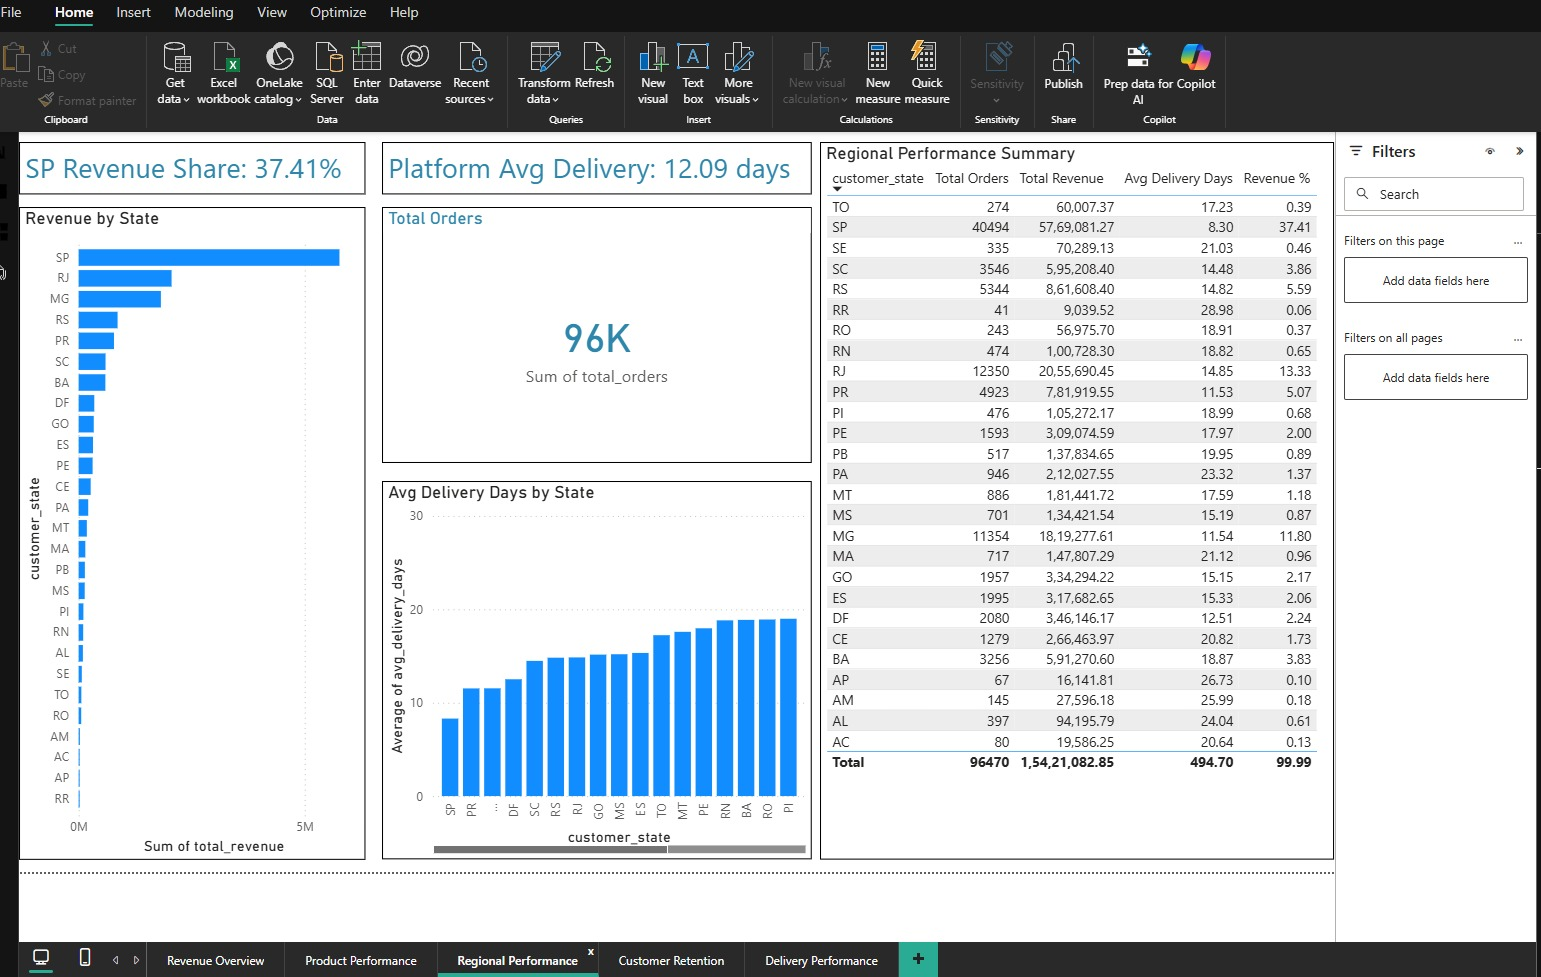

What the dashboard file says about the page in this screenshot:
{"tool":"powerbi","page":{"name":"Regional Performance","canvas":[1280,720],"ordinal":2},"visuals":[{"type":"clusteredBarChart","title":"Revenue by State","fields":{"Category":["kpi_regional_performance.customer_state"],"Y":["Sum(kpi_regional_performance.total_revenue)"]},"box":[0,72.9,336.8,635.2],"z":0},{"type":"clusteredColumnChart","title":"Avg Delivery Days by State","fields":{"Category":["kpi_regional_performance.customer_state"],"Y":["Avg(kpi_regional_performance.avg_delivery_days)"]},"box":[353.3,339.6,418,368.5],"z":1},{"type":"tableEx","title":"Regional Performance Summary","fields":{"Values":["kpi_regional_performance.customer_state","Sum(kpi_regional_performance.total_orders)","Sum(kpi_regional_performance.total_revenue)","Sum(kpi_regional_performance.avg_delivery_days)","Sum(kpi_regional_performance.revenue_pct)"]},"box":[779.5,9.6,500.5,698.4],"z":2},{"type":"textbox","box":[0,9.6,336.8,50.9],"z":3},{"type":"textbox","box":[353.3,9.6,418,50.9],"z":4},{"type":"card","title":"Total Orders","fields":{"Values":["Sum(kpi_regional_performance.total_orders)"]},"box":[353.3,72.9,418,248.9],"z":5}]}

Visuals, with their boxes on the page's 1280x720 design canvas (x1, y1, x2, y2). These are canvas units, not pixel positions in the 1541x977 screenshot, which may show the page scaled, cropped or inside an application window:
"Revenue by State" clusteredBarChart: x1=0 y1=73 x2=337 y2=708
"Avg Delivery Days by State" clusteredColumnChart: x1=353 y1=340 x2=771 y2=708
"Regional Performance Summary" tableEx: x1=780 y1=10 x2=1280 y2=708
textbox: x1=0 y1=10 x2=337 y2=60
textbox: x1=353 y1=10 x2=771 y2=60
"Total Orders" card: x1=353 y1=73 x2=771 y2=322
